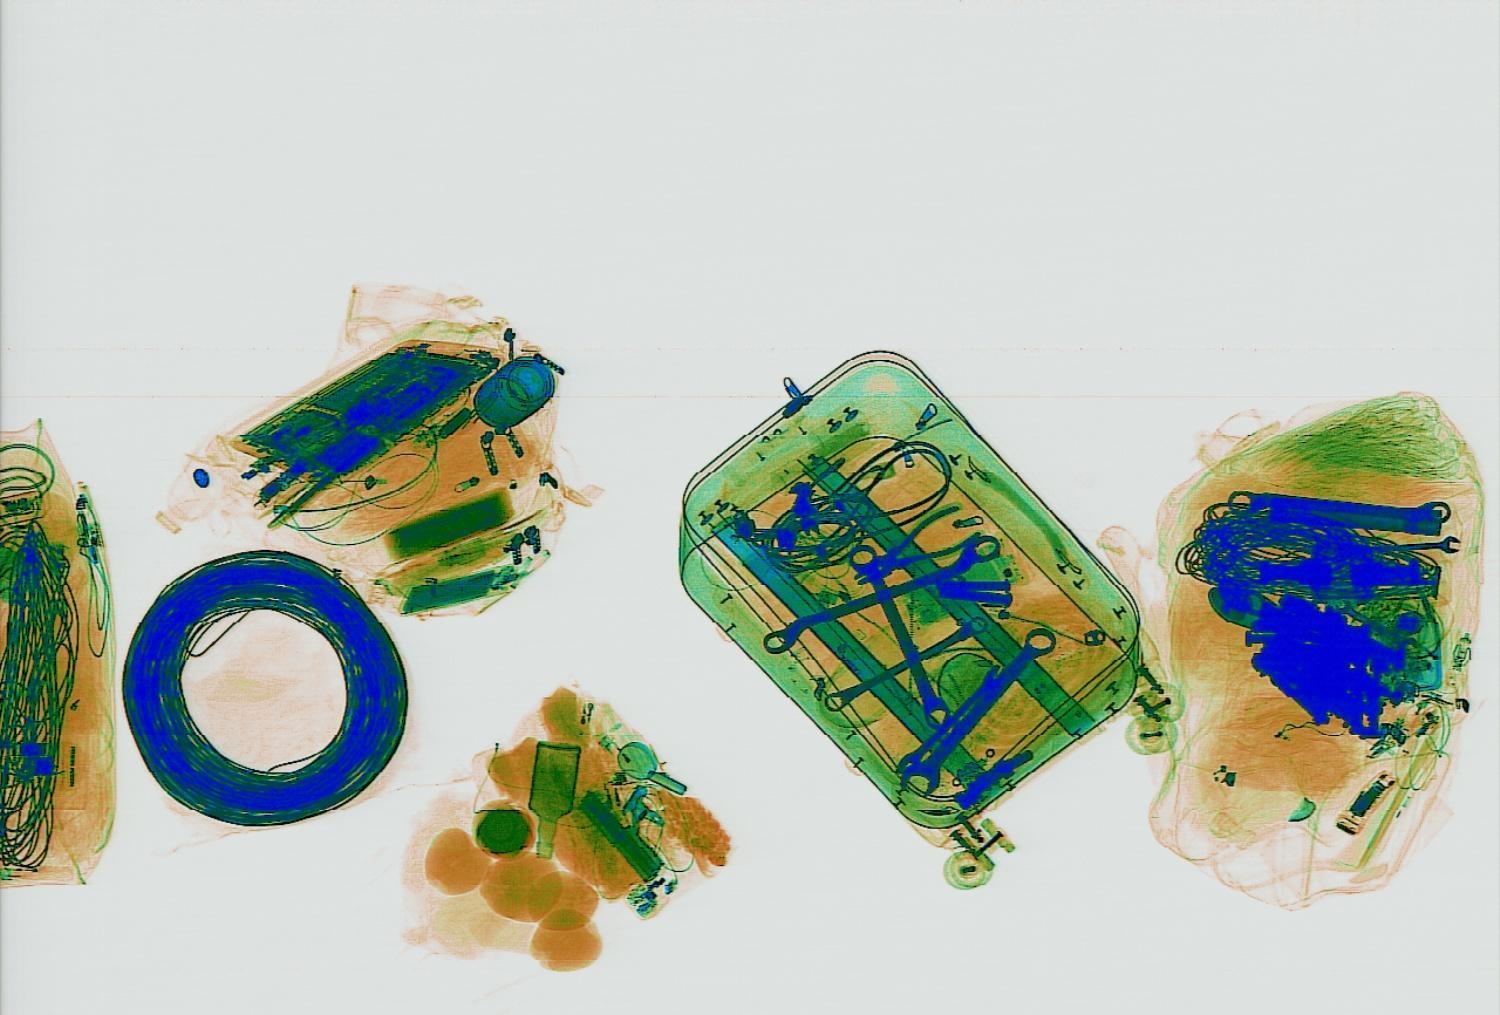Pliers: (834, 504, 990, 594)
Wrench: (885, 620, 1072, 800), (748, 531, 1011, 659), (834, 543, 963, 728), (812, 611, 999, 715), (1227, 489, 1451, 519), (1322, 597, 1426, 656), (1379, 532, 1459, 558)
